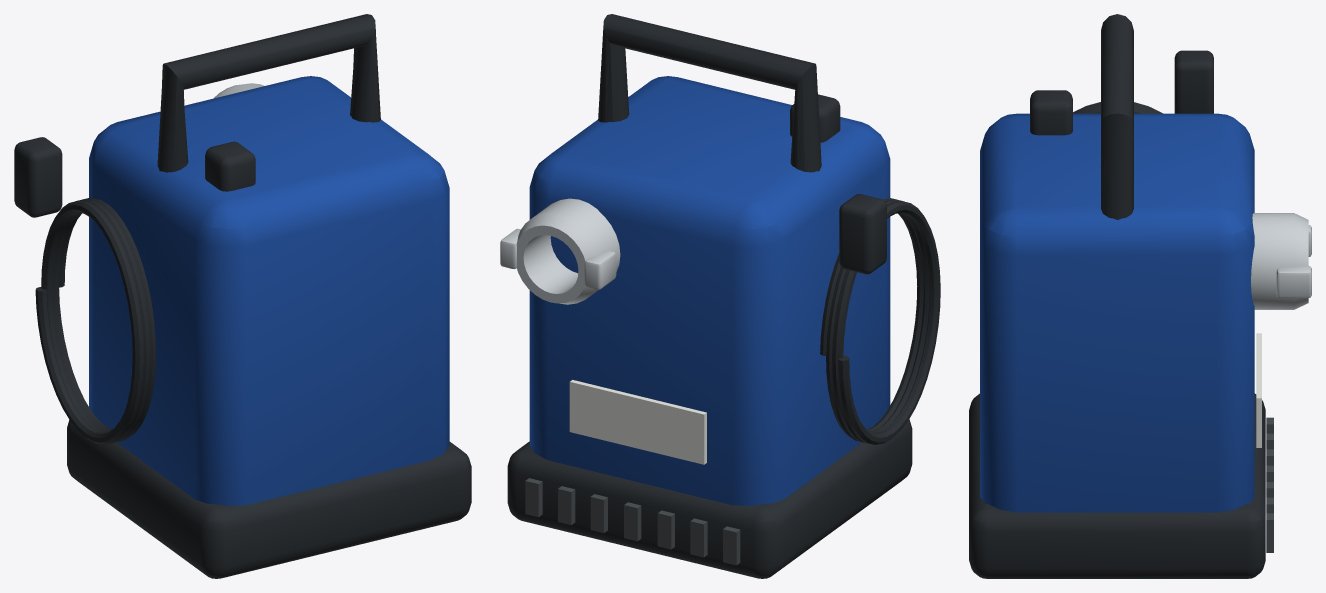
File: blue_submersible_pump_2.glb
3 renders of one model, left to right at view 1: azimuth 30°, elevation 25°; view 2: azimuth 150°, elevation 25°; view 3: azimuth 270°, elevation 25°, orthographic.
Visible parts, largest first — view 1: blue_submersible_pump_2; view 2: blue_submersible_pump_2; view 3: blue_submersible_pump_2.
Boxes of the visible parts, box(x1,y1,x2,y2) form: blue_submersible_pump_2: box(14, 14, 471, 578); blue_submersible_pump_2: box(500, 14, 940, 578); blue_submersible_pump_2: box(969, 14, 1311, 578).
Size of the model in its own units: 0.3054 by 0.3914 by 0.2665.
